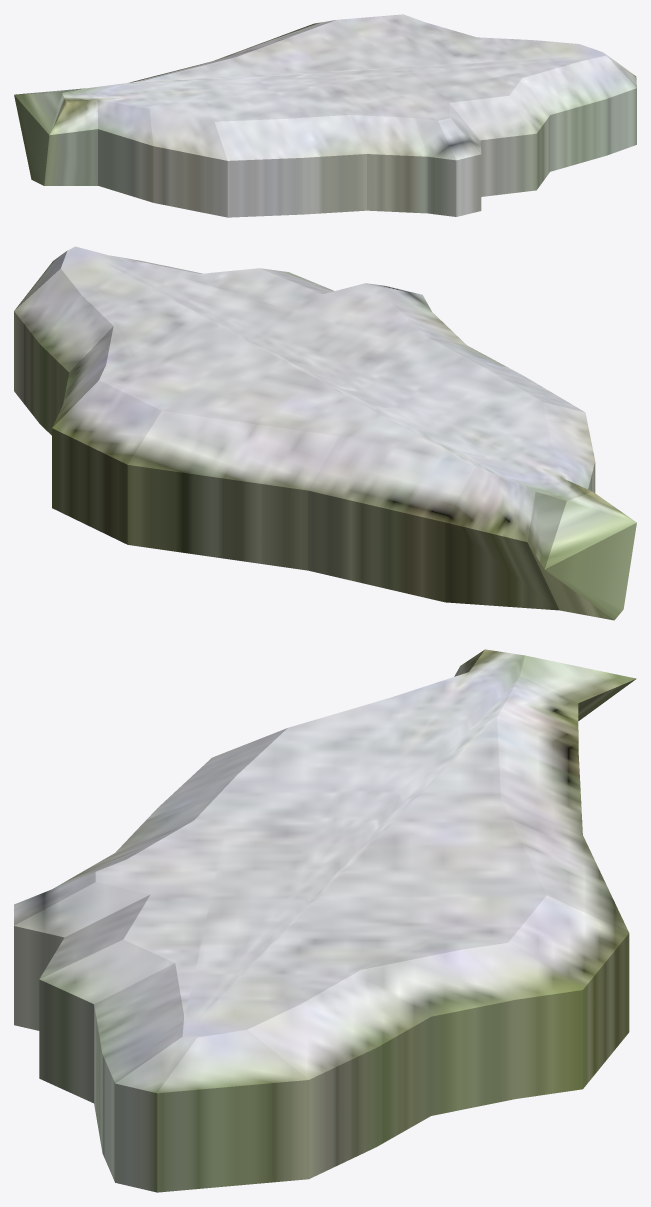
Rendered from stone.21.fbx.
The picture shows the model from 3 angles, top to bottom: view 1: azimuth 30°, elevation 25°; view 2: azimuth 150°, elevation 25°; view 3: azimuth 270°, elevation 25°; orthographic projection. The views are drawn at different scales.
Parts seen in each view (by area): view 1: stone.21; view 2: stone.21; view 3: stone.21.
Boxes of the visible parts, box(x1,y1,x2,y2) form: stone.21: box(14, 14, 636, 217); stone.21: box(14, 246, 636, 620); stone.21: box(14, 649, 636, 1192).
Size of the model in its own units: 65.59 by 9.74 by 40.32.
1 material, 1 textured.
